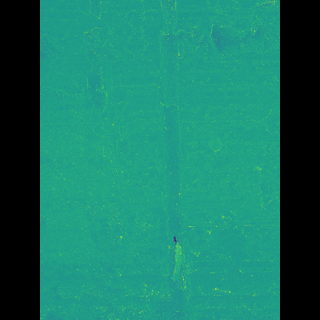Loch: (69, 100, 248, 319), (91, 0, 140, 251), (155, 0, 184, 320)
